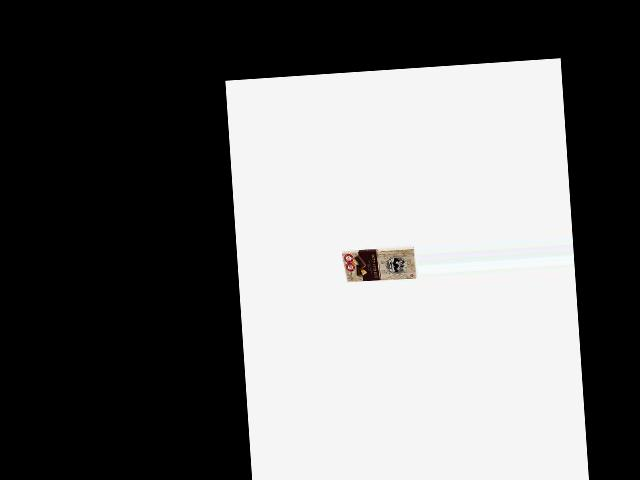chocolate: (340, 240, 416, 284)
